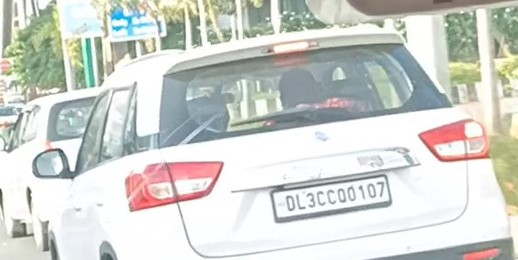DL3CCQ0107: (272, 175, 390, 218)
